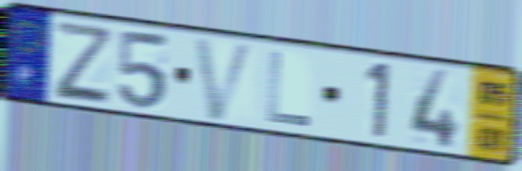1: (363, 60, 395, 141)
4: (406, 65, 465, 151)
5: (114, 28, 171, 112)
L: (265, 48, 313, 130)
V: (190, 34, 260, 124)
Z: (52, 17, 113, 104)
